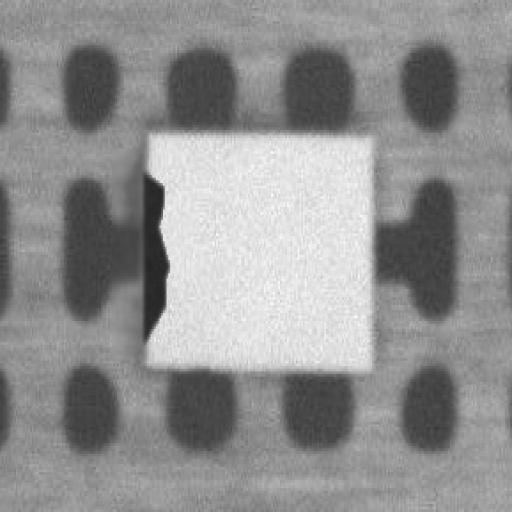DIE_BROKEN: (136, 167, 170, 342)
